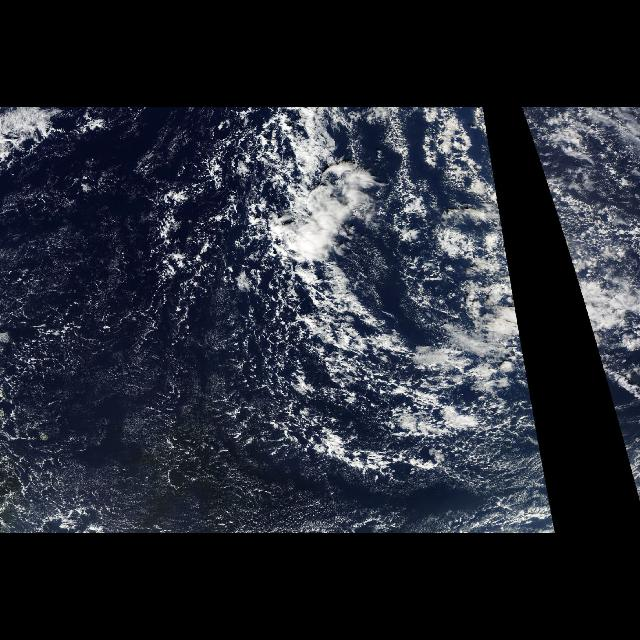Gravel: (172, 111, 546, 511), (522, 111, 546, 185)
Sugar: (4, 133, 290, 525)
